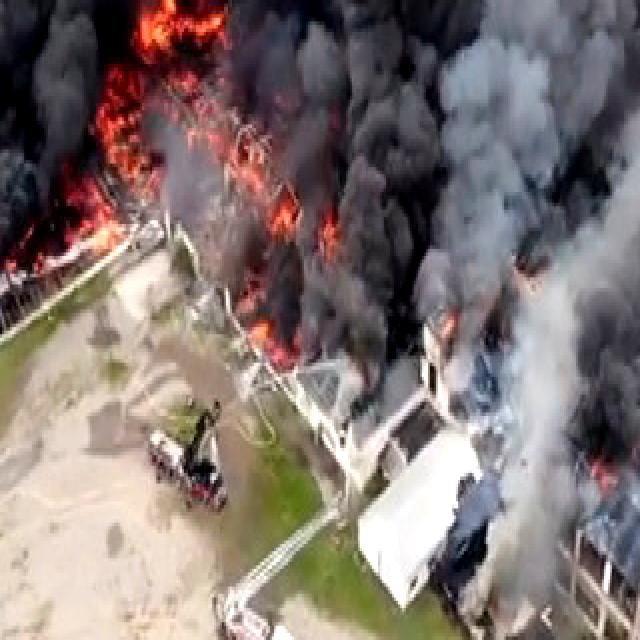fire: (132, 0, 232, 43)
smoke: (438, 0, 640, 299), (328, 0, 478, 356), (0, 0, 116, 178)
